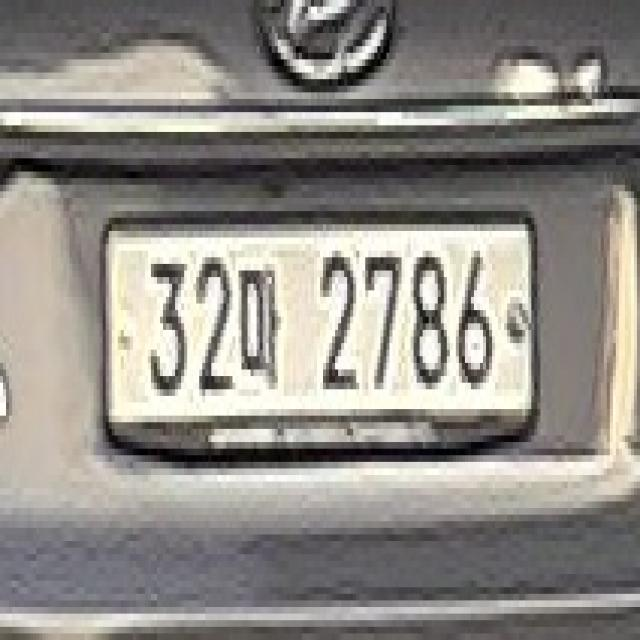2: (190, 257, 236, 396), (317, 244, 359, 396)
3: (145, 250, 187, 402)
6: (456, 244, 495, 383)
7: (362, 244, 405, 396)
8: (407, 244, 450, 389)
license_plate: (106, 224, 537, 429)
ma: (235, 257, 284, 383)
